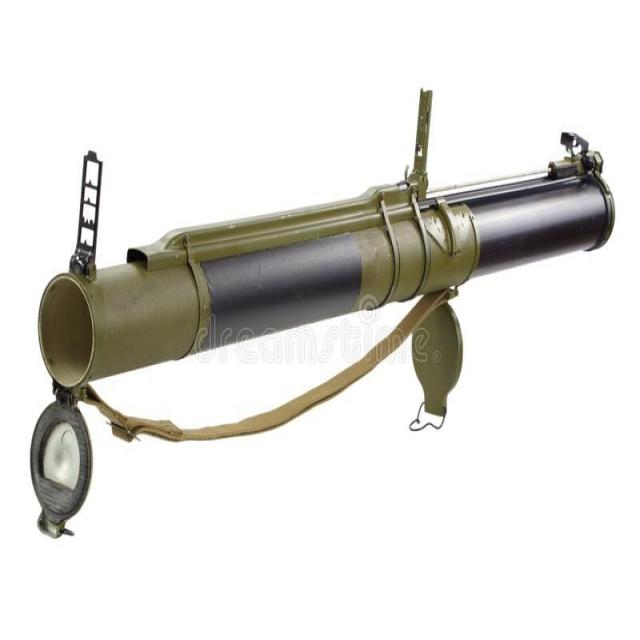bazooka: (22, 86, 622, 558)
